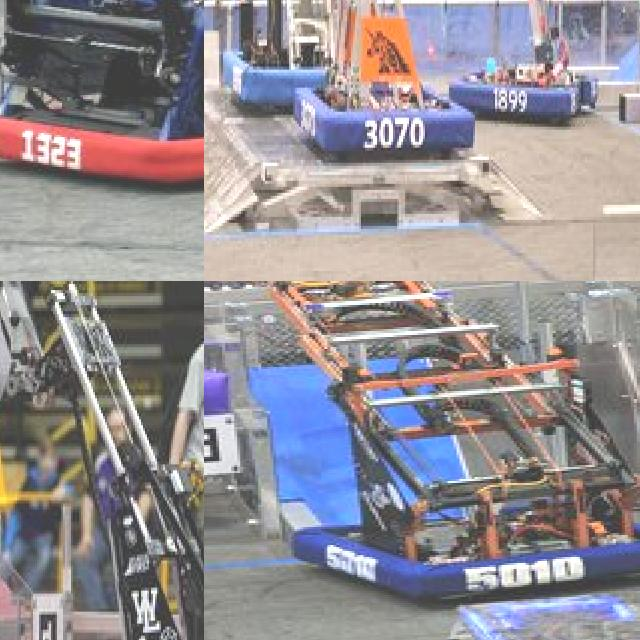FRC-Robots: (263, 281, 640, 608), (38, 281, 204, 640), (0, 0, 204, 205), (271, 0, 479, 156), (450, 0, 616, 125), (214, 0, 356, 129)
